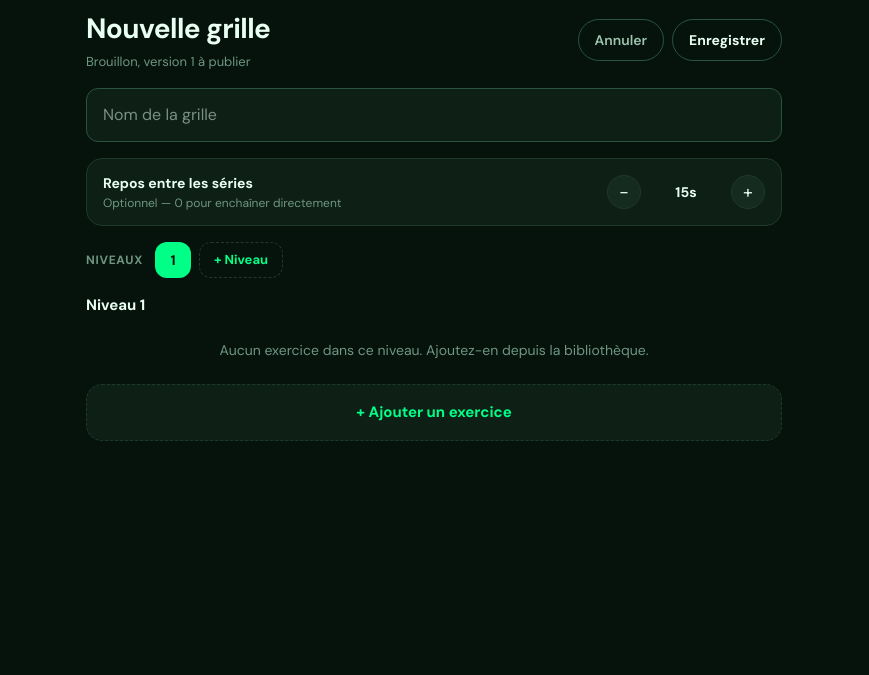
series › duplique la derniere serie a l ajout, et la retire
What coordinates should you click on to do the following:
click the button "+ Ajouter un exercice"
I would click on:
 (434, 412)
Its box is [86,384,782,440].
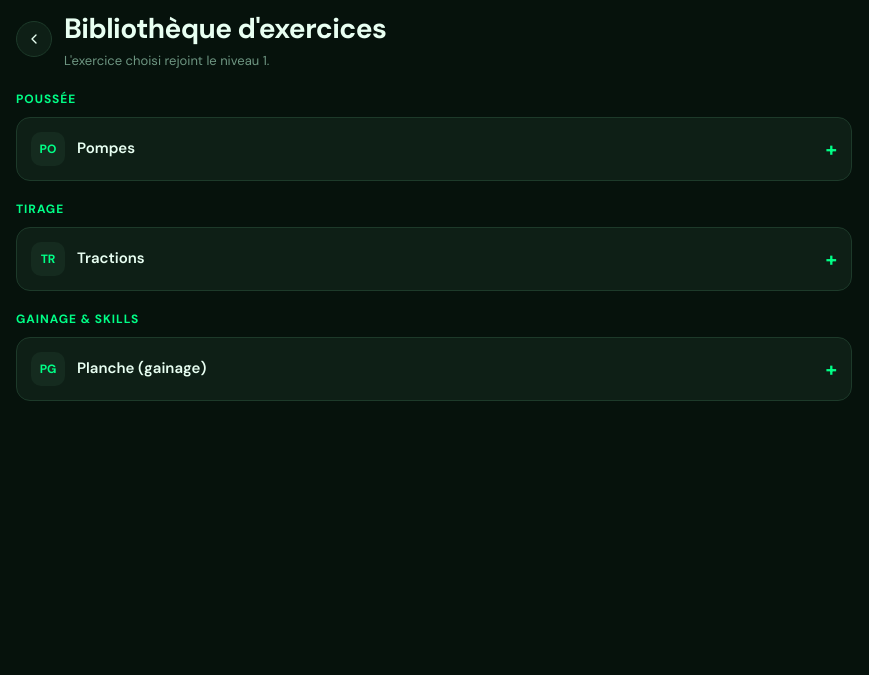
What coordinates should you click on to do the following:
click the button "PO Pompes +"
I would click on:
 (48, 148)
Its box is [16,116,852,180].
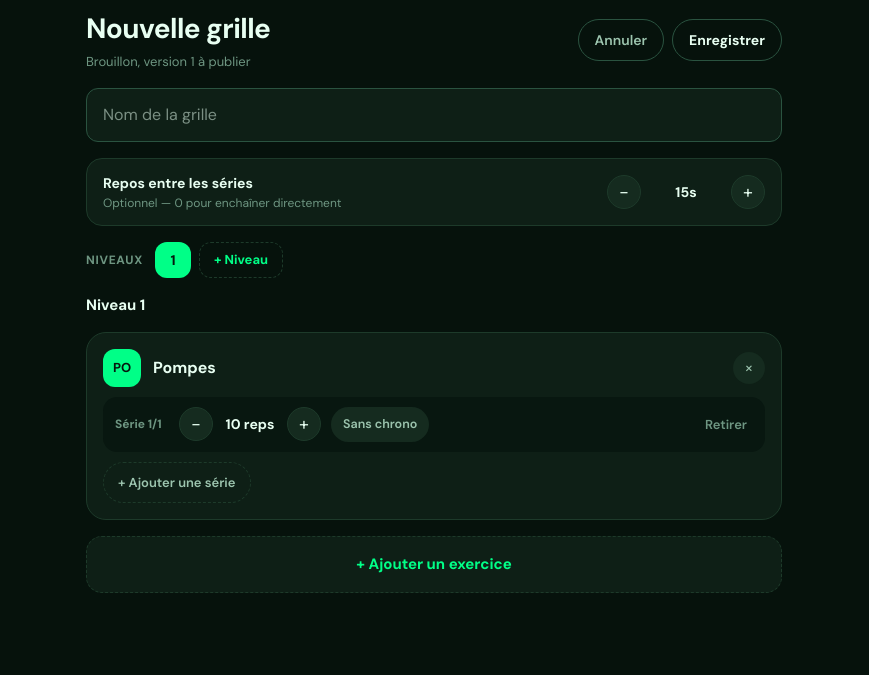
What coordinates should you click on to do the following:
click the button named "Augmenter répétitions"
I would click on:
 (304, 424)
Its box is [287,407,321,441].
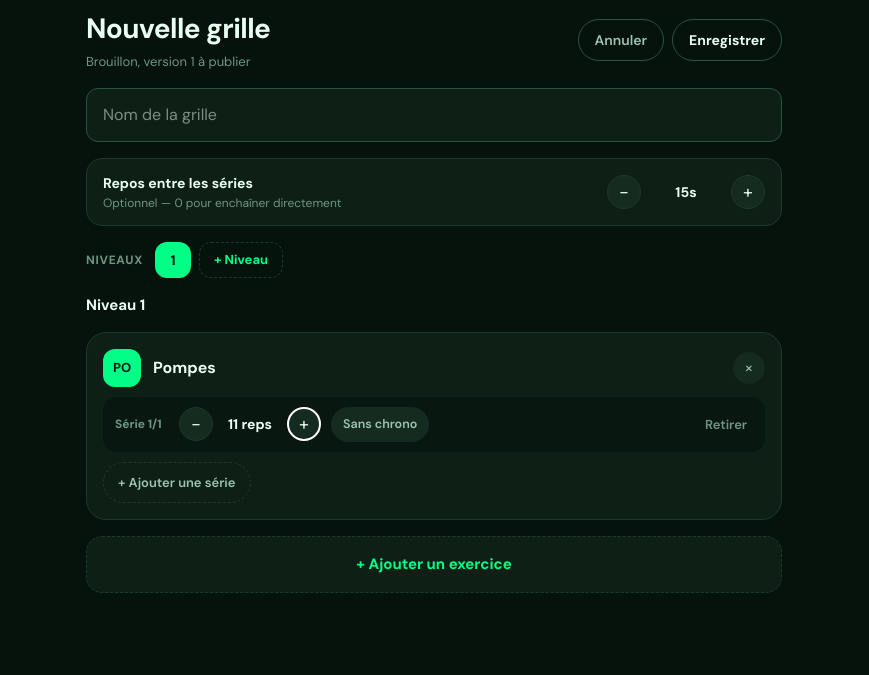
What coordinates should you click on to do the following:
click the button "+ Ajouter une série"
I would click on:
 (177, 483)
Its box is [103,462,250,503].
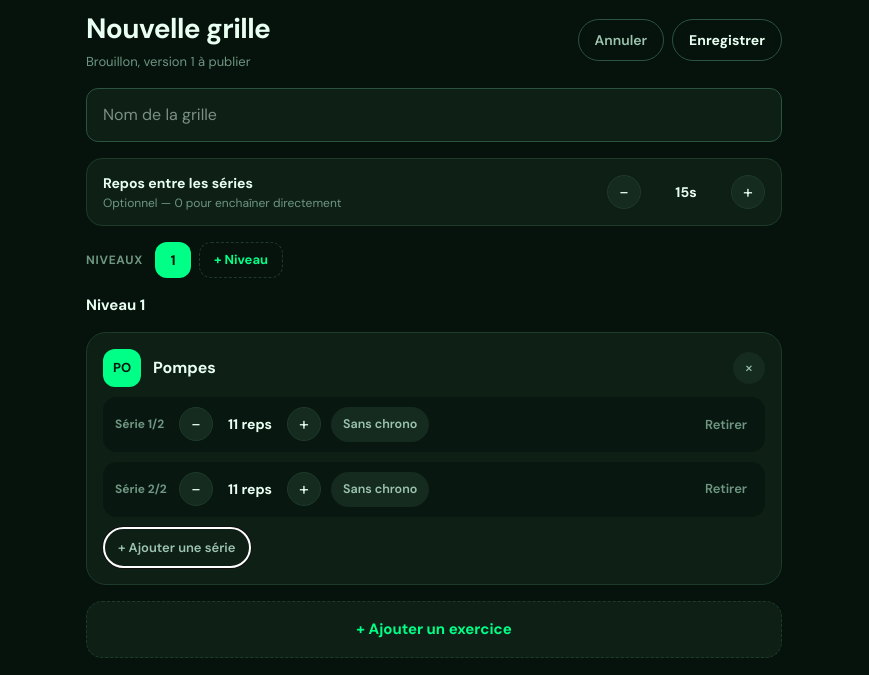
Expected: the text "Série 1/2" is shown, [115,416,169,432]
Expected: the text "11 reps" is shown 2 times, [228,415,272,433]; [228,480,272,498]
What coordinates should you click on to do the following:
click the 2nd button "Retirer"
I would click on:
 (726, 489)
Its box is [699,473,753,505].
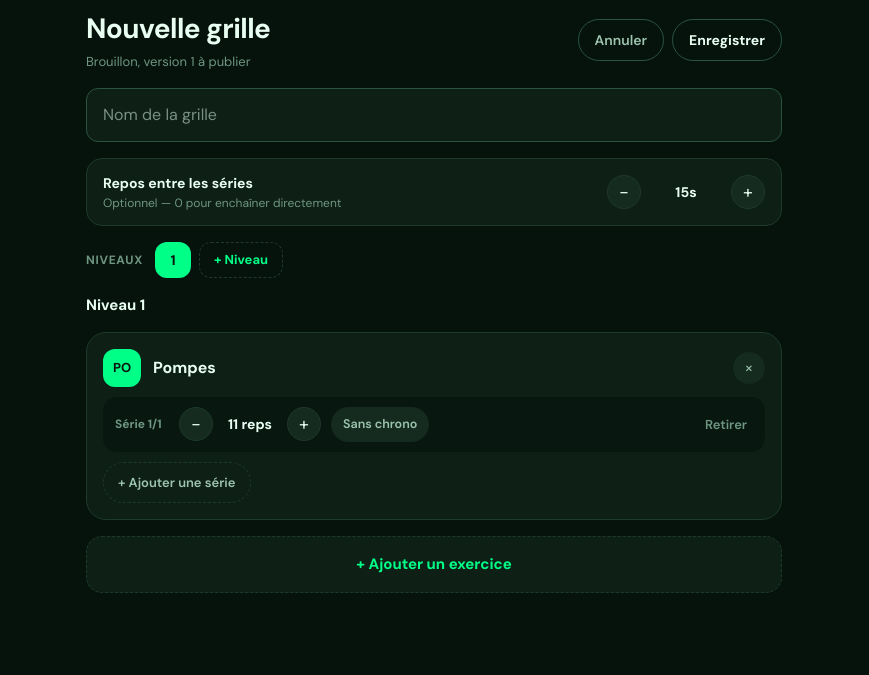
Expected: the text "Série 1/1" is shown, [115,416,169,432]
